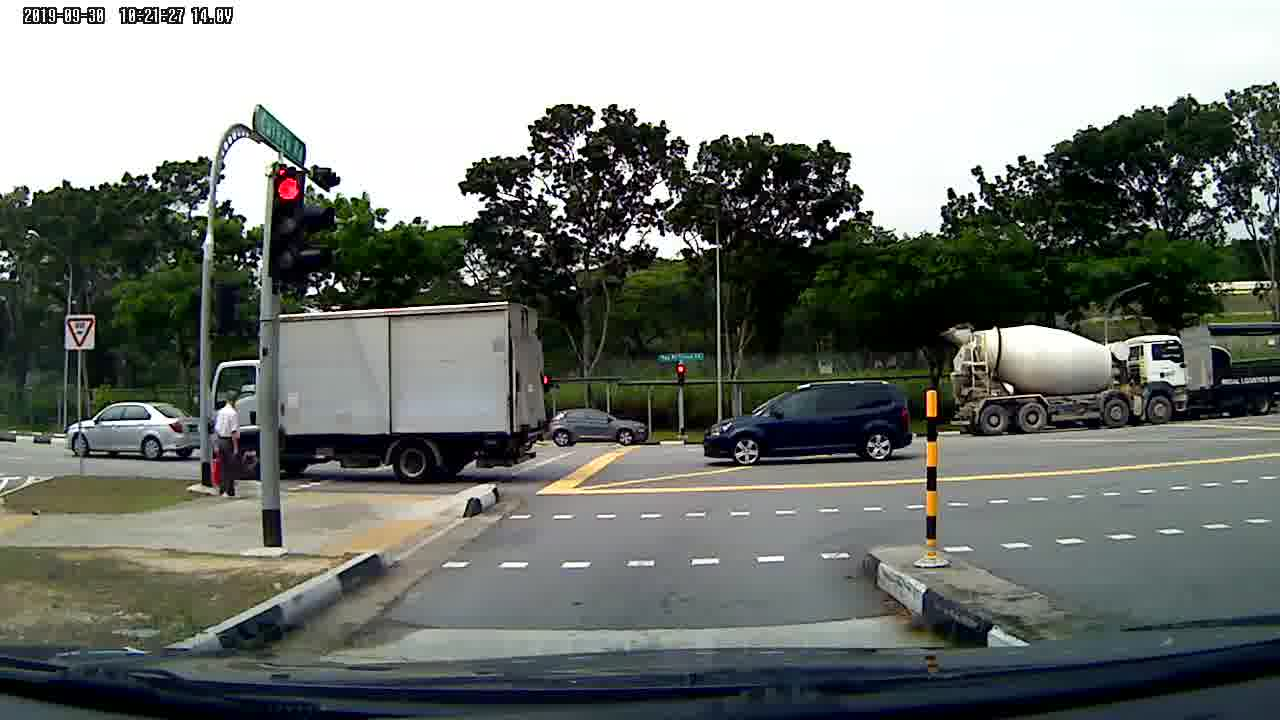car: (700, 383, 913, 470), (59, 398, 204, 461), (546, 405, 647, 449)
